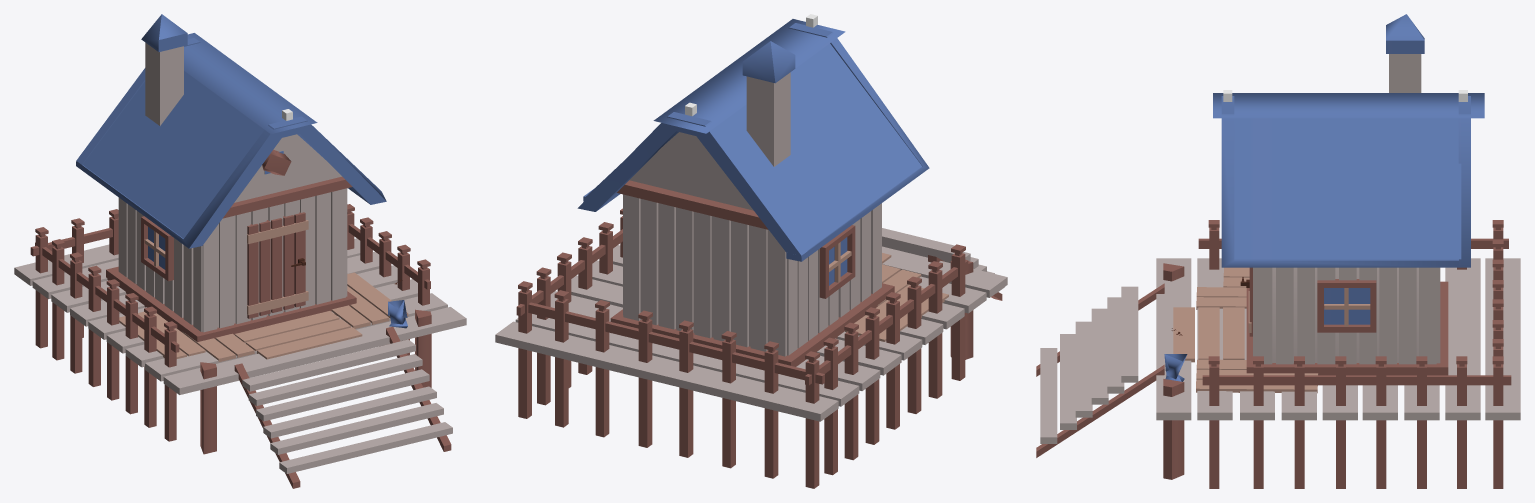
The model's file is House2.glb.
3 renders of one model, left to right at view 1: azimuth 30°, elevation 25°; view 2: azimuth 150°, elevation 25°; view 3: azimuth 270°, elevation 25°, orthographic. The views are drawn at different scales.
Visible parts, largest first — view 1: 3d66-Editable_Poly-20097544-001; view 2: 3d66-Editable_Poly-20097544-001; view 3: 3d66-Editable_Poly-20097544-001.
Part boxes in pixels (<box>): 3d66-Editable_Poly-20097544-001: <box>14,14,466,488</box>; 3d66-Editable_Poly-20097544-001: <box>495,14,1007,488</box>; 3d66-Editable_Poly-20097544-001: <box>1036,14,1520,488</box>.
Size of the model in its own units: 1.01 by 1.16 by 1.34.
Materials: 1 (1 with a texture image).
